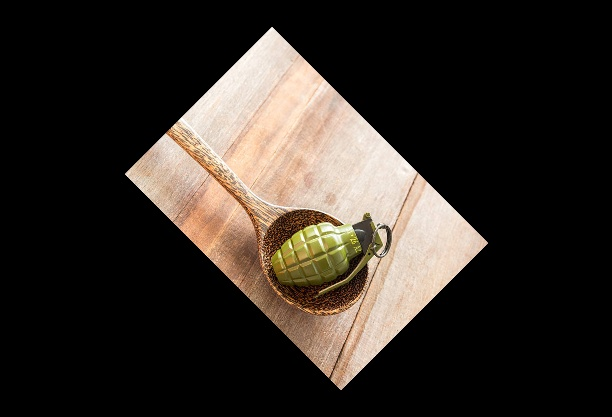e1: (270, 211, 394, 299)
